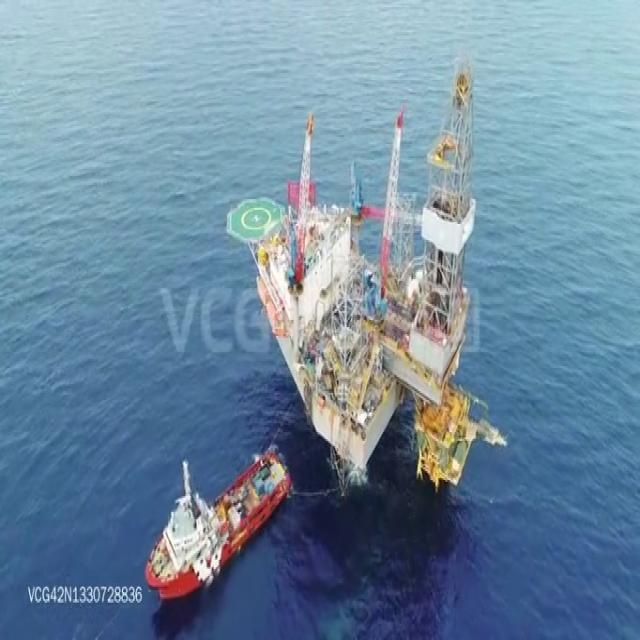cargoship: (138, 444, 286, 602)
